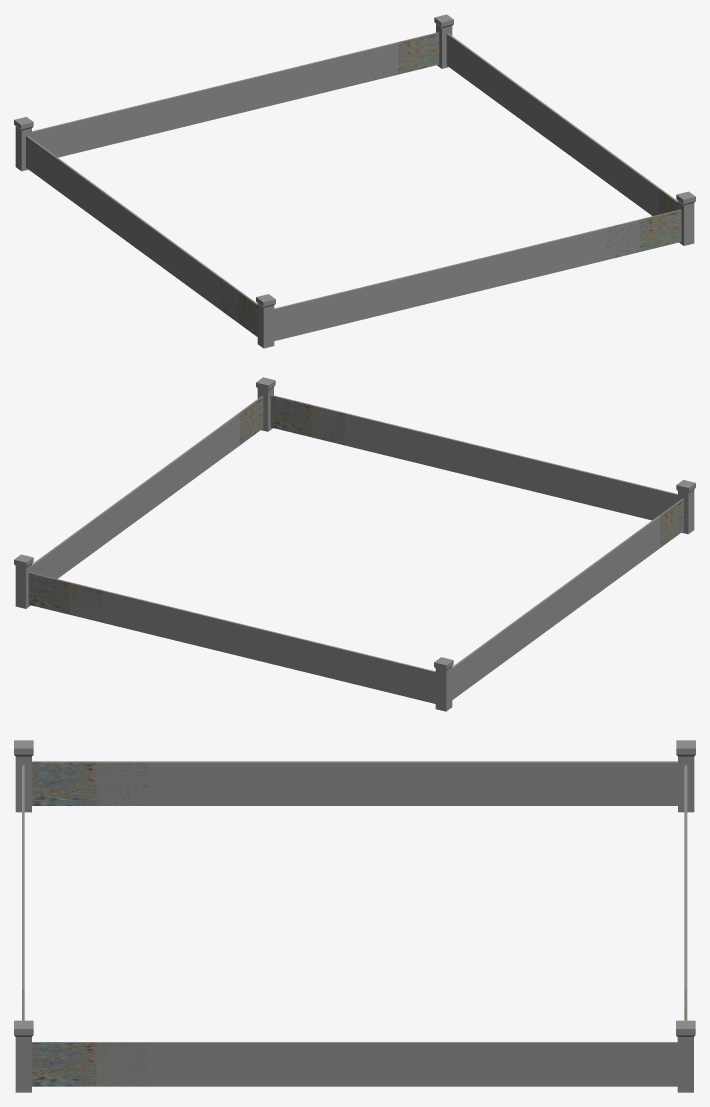
The model's file is FenceModel.obj.
3 renders of one model, top to bottom at view 1: azimuth 30°, elevation 25°; view 2: azimuth 150°, elevation 25°; view 3: azimuth 270°, elevation 25°, orthographic. The views are drawn at different scales.
Parts seen in each view (by area): view 1: LargeMetal31:metal_fence_large_mid_rail_spear; view 2: LargeMetal31:metal_fence_large_mid_rail_spear; view 3: LargeMetal31:metal_fence_large_mid_rail_spear.
Part boxes in pixels (x1=…): LargeMetal31:metal_fence_large_mid_rail_spear: x1=14, y1=14, x2=695, y2=348; LargeMetal31:metal_fence_large_mid_rail_spear: x1=14, y1=377, x2=695, y2=711; LargeMetal31:metal_fence_large_mid_rail_spear: x1=14, y1=740, x2=695, y2=1092.
Size of the model in its own units: 25.88 by 2.68 by 25.83.
Materials: 56 (32 with a texture image).
